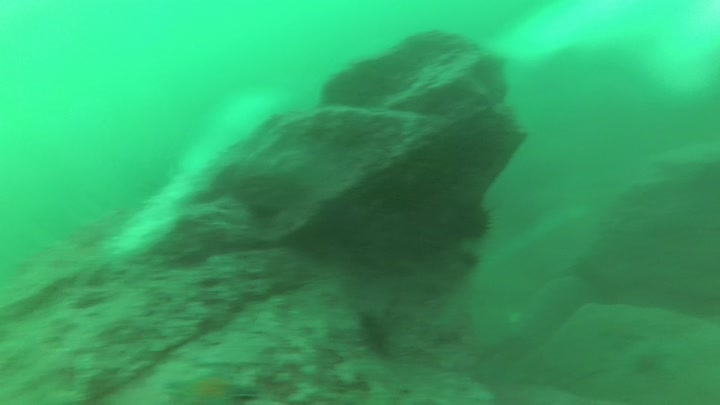echinus: (452, 194, 499, 244), (455, 247, 483, 272)
starfish: (162, 366, 261, 405)
